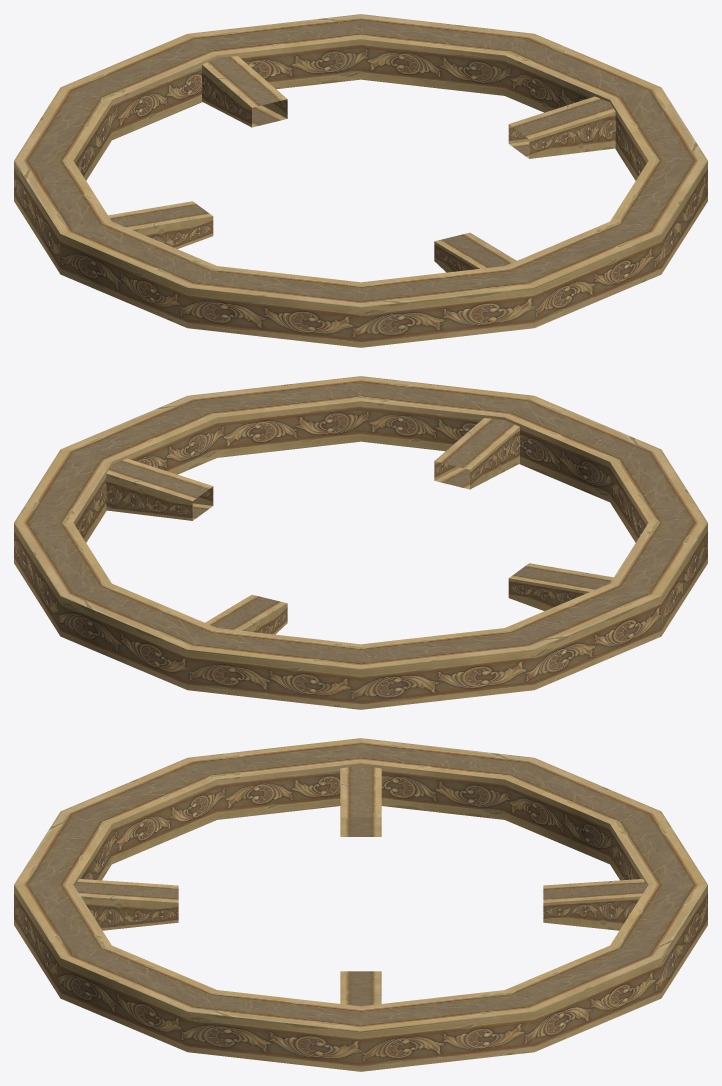
The model's file is Chandelier01_Maincity_001.FBX.
3 views of the same model, one above another, from view 1: azimuth 30°, elevation 25°; view 2: azimuth 150°, elevation 25°; view 3: azimuth 270°, elevation 25° (orthographic).
Visible parts, largest first — view 1: Chandelier01_Maincity_001; view 2: Chandelier01_Maincity_001; view 3: Chandelier01_Maincity_001.
Part boxes in pixels (bbox=[...]): Chandelier01_Maincity_001: bbox=[14, 14, 707, 347]; Chandelier01_Maincity_001: bbox=[14, 376, 707, 709]; Chandelier01_Maincity_001: bbox=[14, 738, 707, 1071].
Bounding box in the file's own units: 467 × 30.06 × 467.
1 material, 1 textured.
